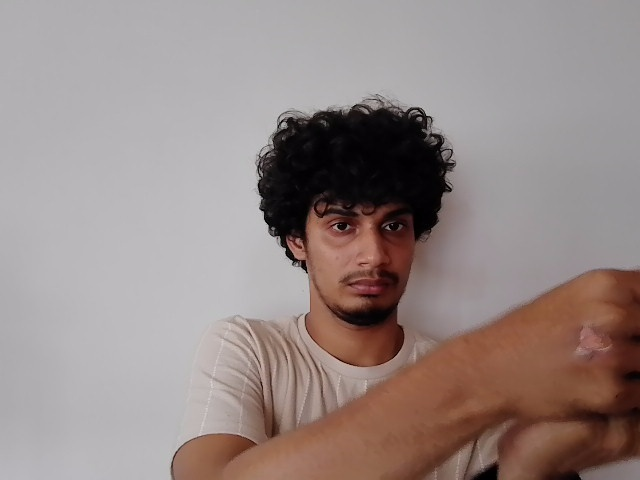with: (504, 252, 640, 461)
